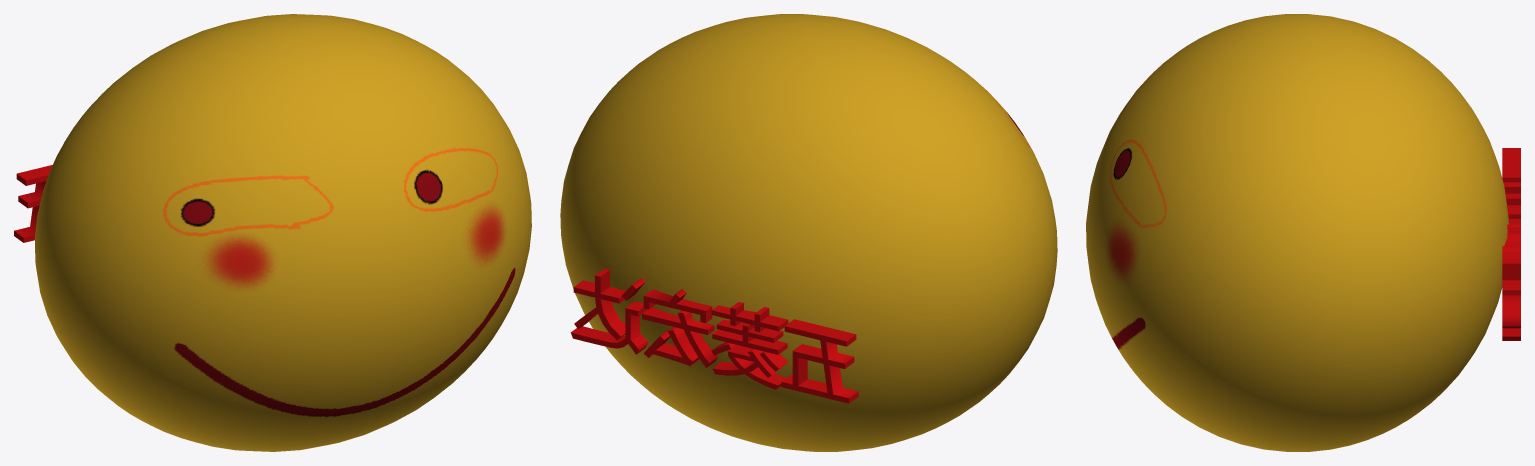
Rendered from smiley.glb.
3 renders of one model, left to right at view 1: azimuth 30°, elevation 25°; view 2: azimuth 150°, elevation 25°; view 3: azimuth 270°, elevation 25°, orthographic. The views are drawn at different scales.
Visible parts, largest first — view 1: mesh_id32, mesh_id286; view 2: mesh_id32, mesh_id286; view 3: mesh_id32, mesh_id286.
Part boxes in pixels (x1,y1,x2,y2): mesh_id32: (34, 14, 531, 451); mesh_id286: (14, 165, 52, 242); mesh_id32: (560, 14, 1057, 451); mesh_id286: (570, 268, 858, 403); mesh_id32: (1086, 14, 1508, 451); mesh_id286: (1502, 148, 1520, 340).
Bounding box in the file's own units: 0.4071 × 0.3416 × 0.3513.
Materials: 2 (2 with a texture image).
